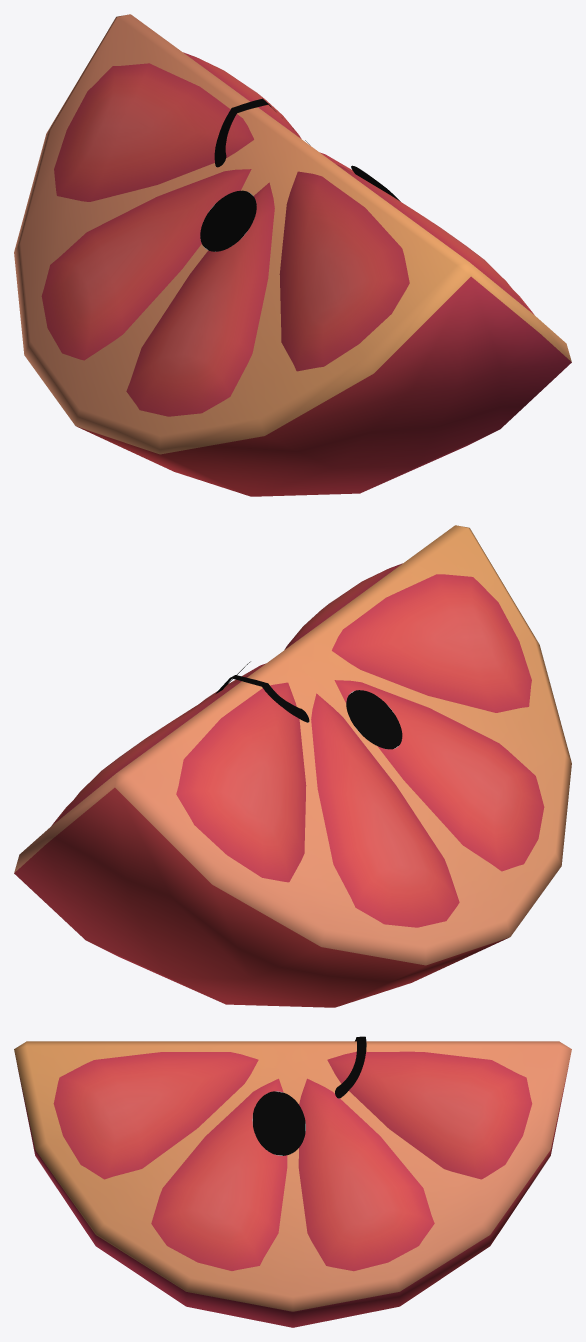
Rendered from grapefruit_piece_smile.fbx.
The picture shows the model from 3 angles, top to bottom: view 1: azimuth 30°, elevation 25°; view 2: azimuth 150°, elevation 25°; view 3: azimuth 270°, elevation 25°; orthographic projection. The views are drawn at different scales.
Parts seen in each view (by area): view 1: grapefruit_piece; view 2: grapefruit_piece; view 3: grapefruit_piece.
Boxes of the visible parts, left/top/right/bottom form: grapefruit_piece: left=14, top=14, right=571, bottom=496; grapefruit_piece: left=14, top=525, right=571, bottom=1007; grapefruit_piece: left=14, top=1036, right=571, bottom=1327.
Size of the model in its own units: 19.43 by 27.47 by 14.2.
